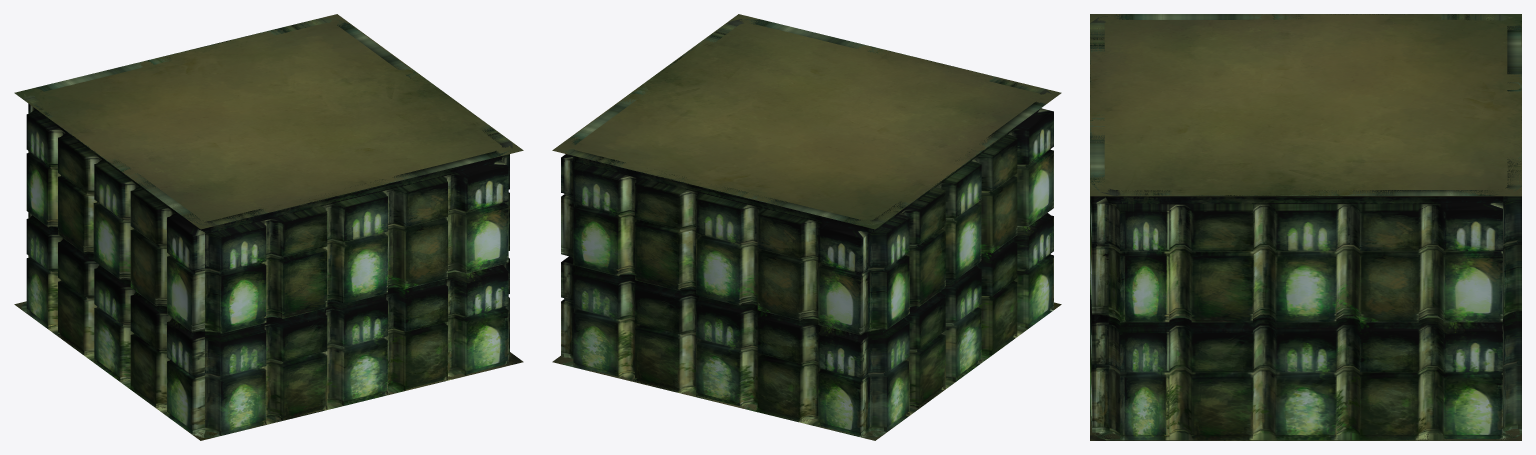
The model's file is stage00.fbx.
The picture shows the model from 3 angles, left to right: view 1: azimuth 30°, elevation 25°; view 2: azimuth 150°, elevation 25°; view 3: azimuth 270°, elevation 25°; orthographic projection. The views are drawn at different scales.
Parts seen in each view (by area): view 1: stage00; view 2: stage00; view 3: stage00.
Part boxes in pixels (left/top/right/bottom): stage00: left=14, top=14, right=523, bottom=440; stage00: left=552, top=14, right=1061, bottom=440; stage00: left=1090, top=14, right=1521, bottom=440.
Size of the model in its own units: 24 by 15 by 24.
1 material, 1 textured.
